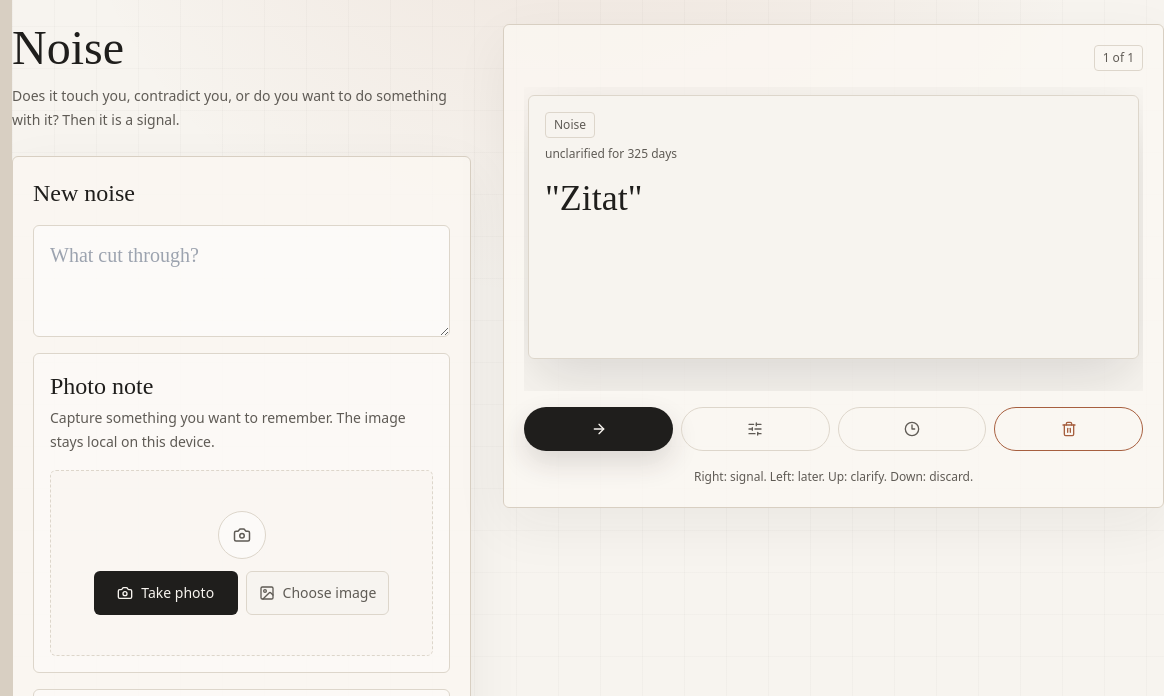
InboxPage › Details › öffnet „Mehr Details“ automatisch, wenn Werk schon einen Wert hat
Expected: the text "\"Zitat\"" is shown, [545,178,643,218]
Click the button named "Clarify" at (755, 429), box [681,407,830,451]
(page scrolled)
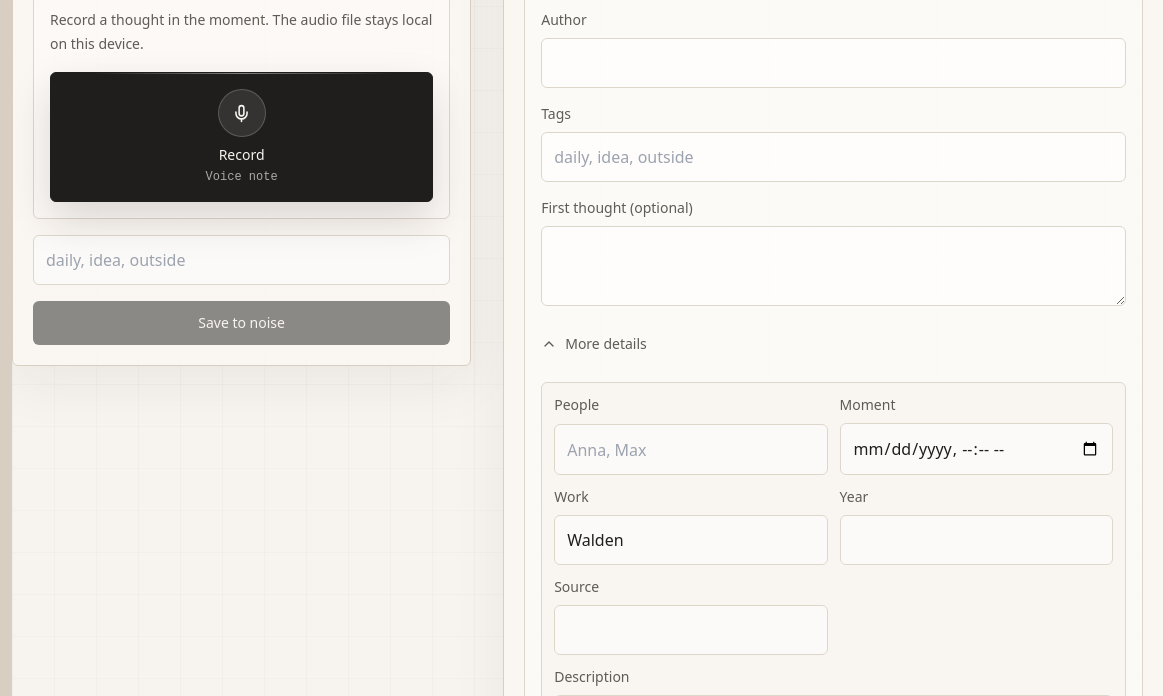
Result: the field labelled "Work" holds "Walden" at [554,515,828,565]
